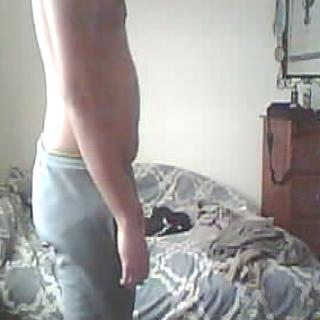Blue Sweatpants: (28, 139, 144, 320)
